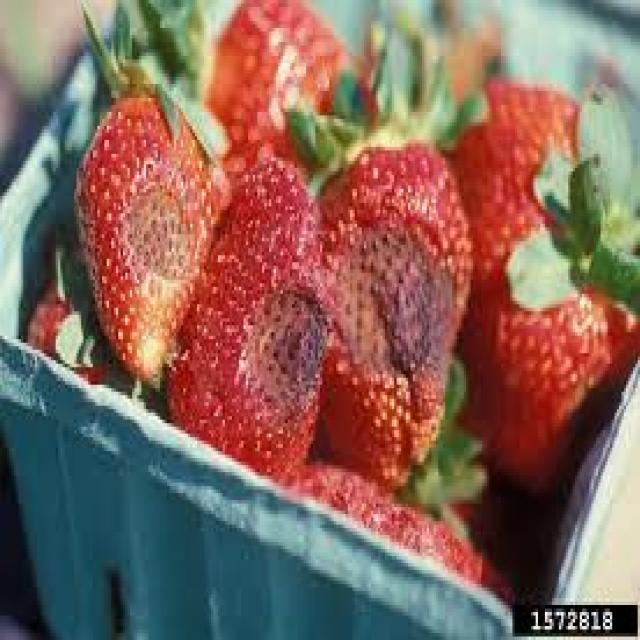Fruta sana: (460, 72, 638, 481), (213, 2, 376, 161)
Mancha negra Antracnosis: (313, 121, 472, 474), (190, 156, 325, 464), (78, 103, 222, 380)
